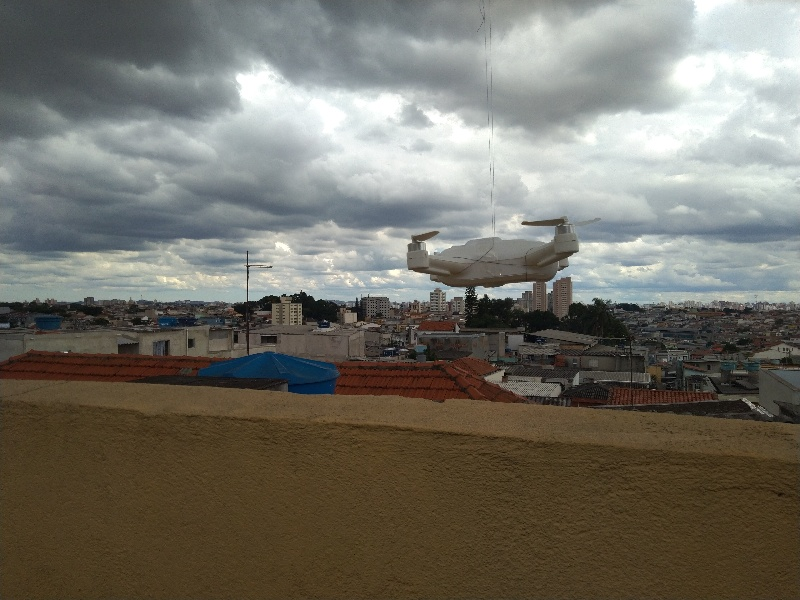drone: (398, 210, 602, 294)
